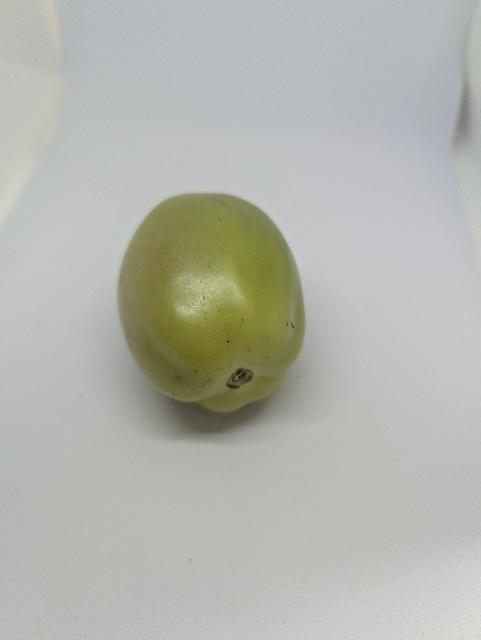green: (107, 182, 318, 424)
